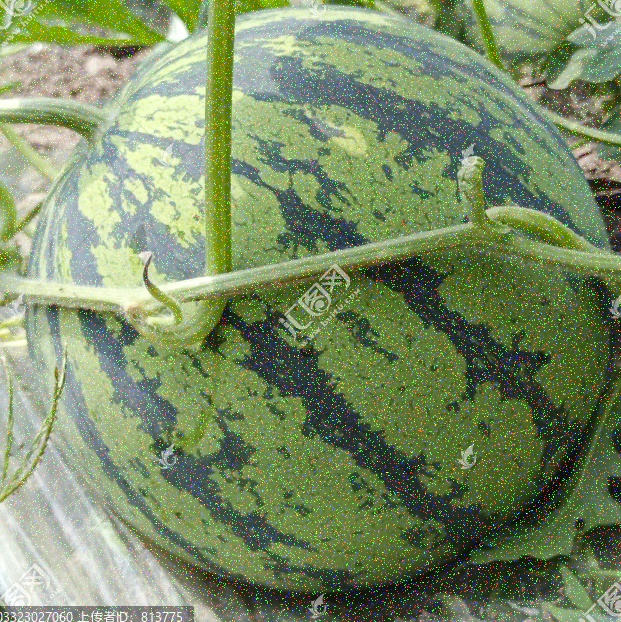watermelon: (34, 5, 618, 600)
